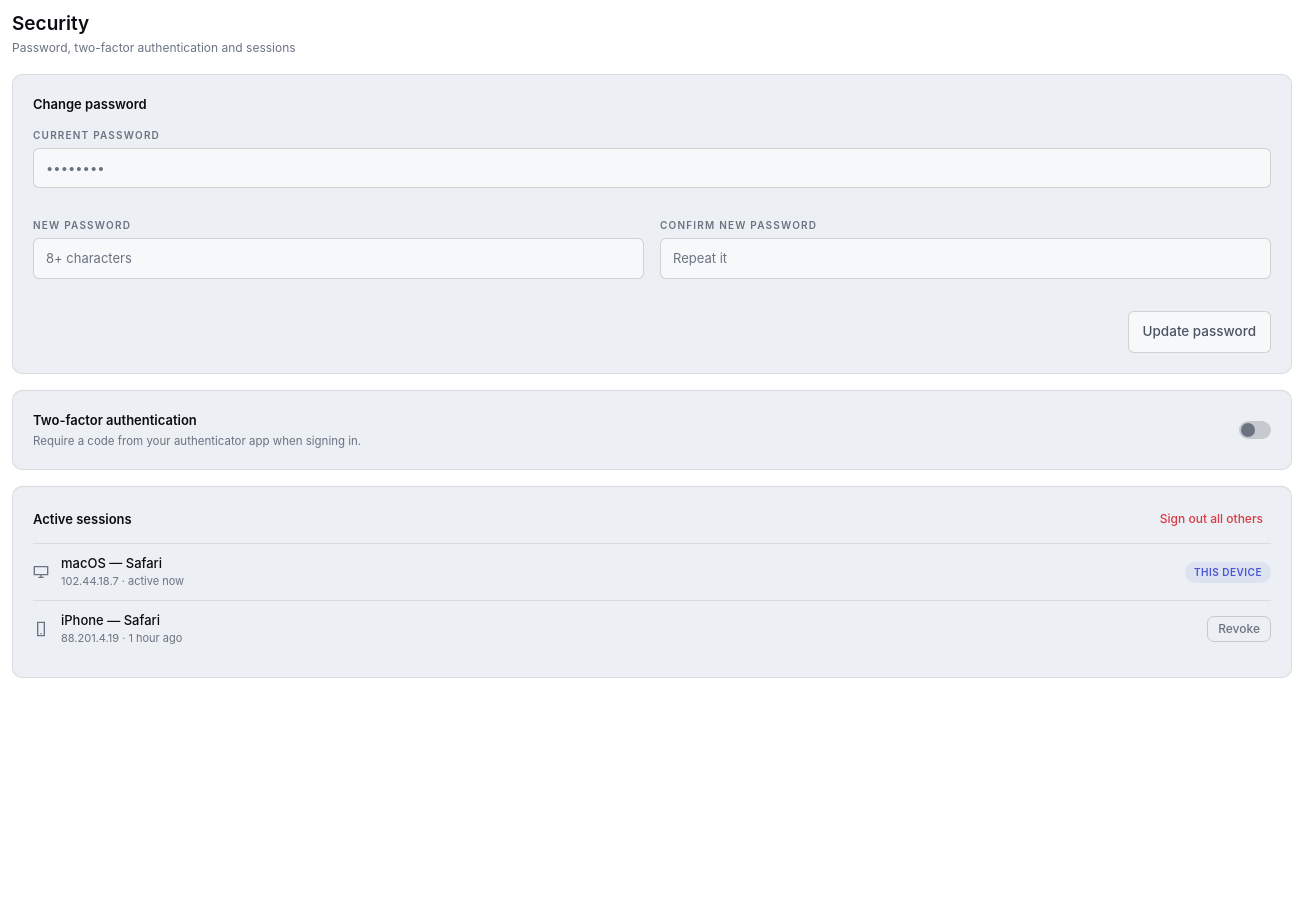
Test: SettingsSecurityPage › changes the password and refreshes the sessions the change just revoked
Step 1. Type "oldpassword1" into the password field labelled "Current password" → (652, 168), box [33, 148, 1271, 188]
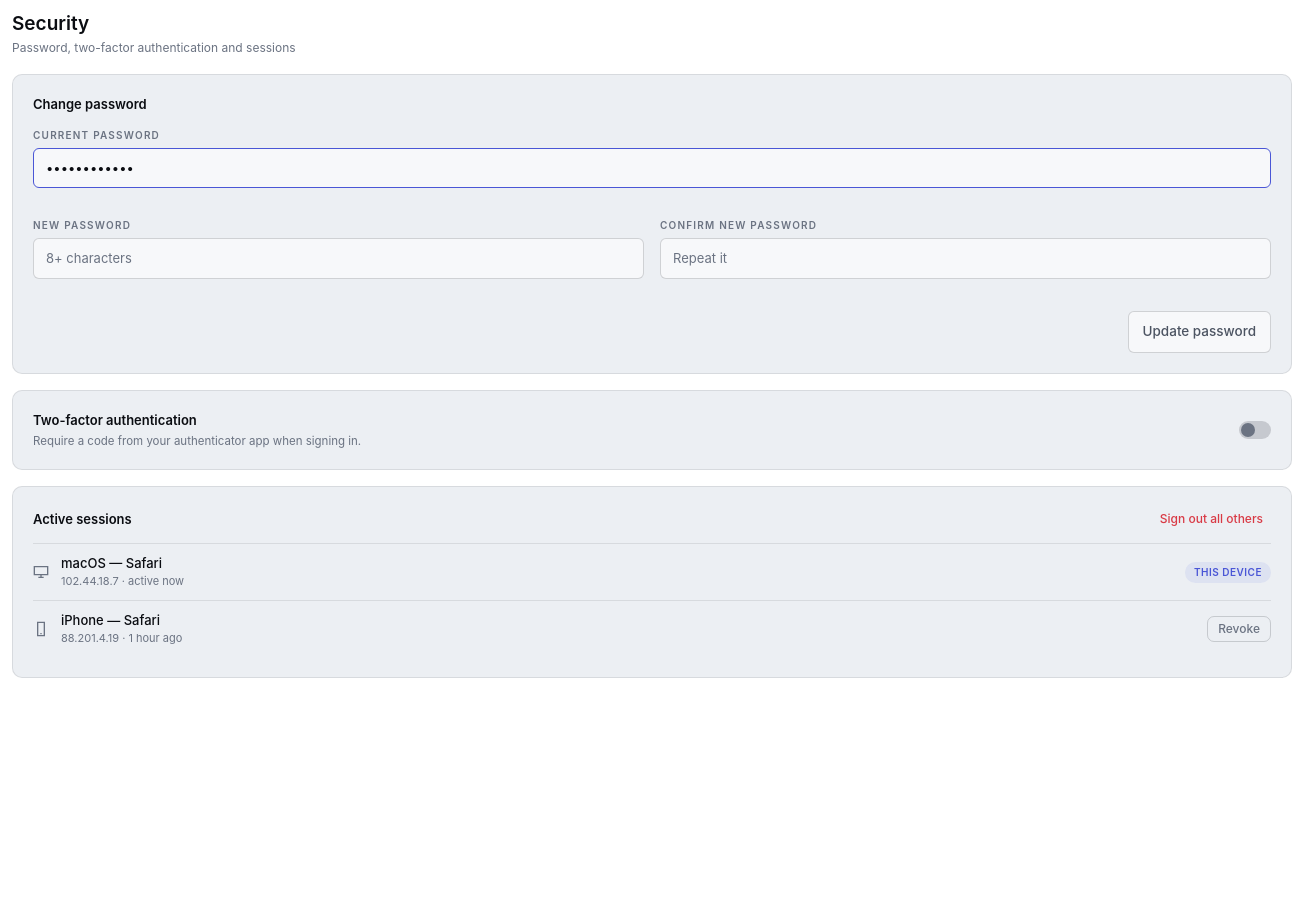
Step 2. Type "brandnew42" into the password field labelled "New password" → (338, 259), box [33, 238, 644, 279]
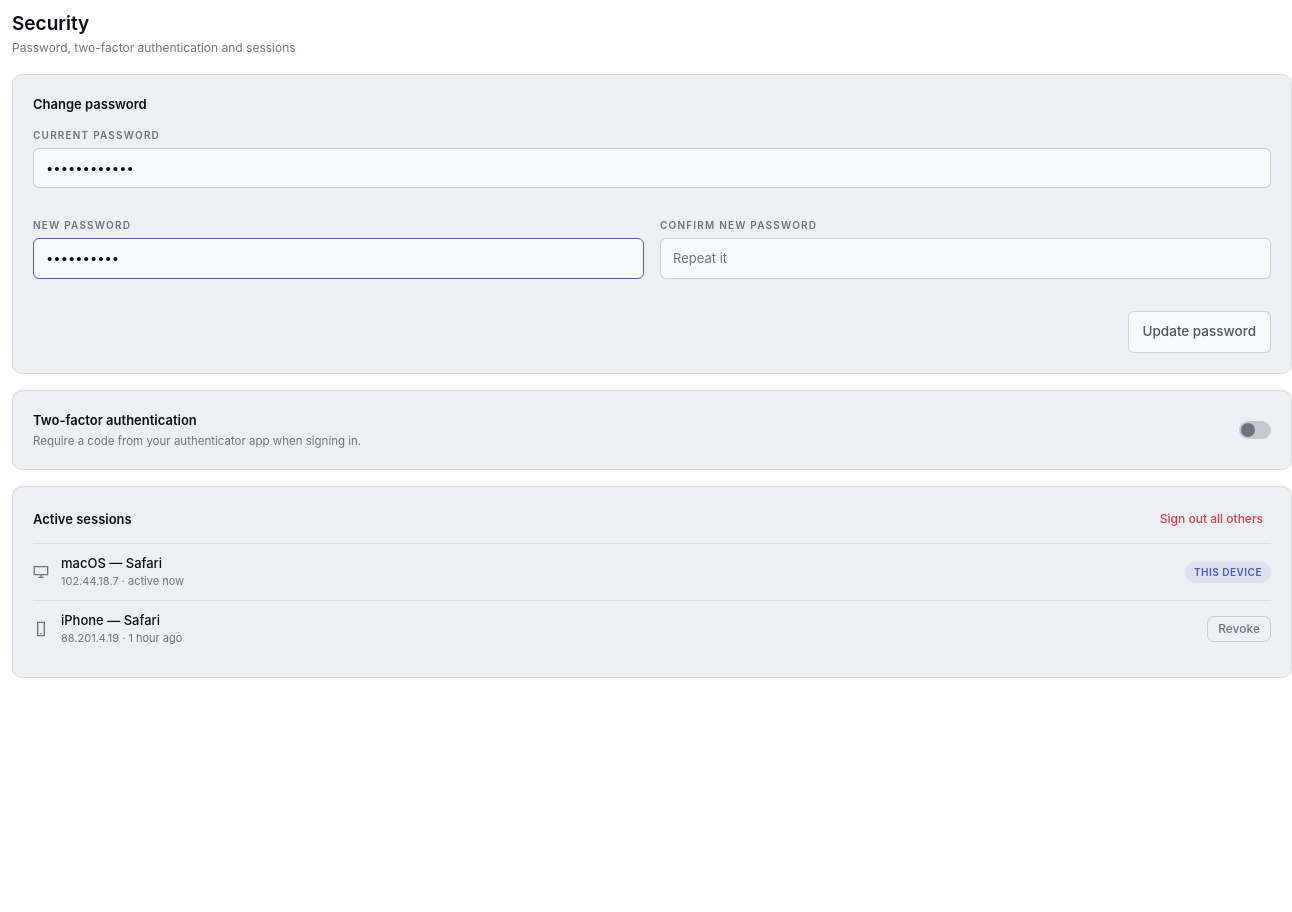
Step 3. Type "brandnew42" into the password field labelled "Confirm new password" → (966, 259), box [660, 238, 1271, 279]
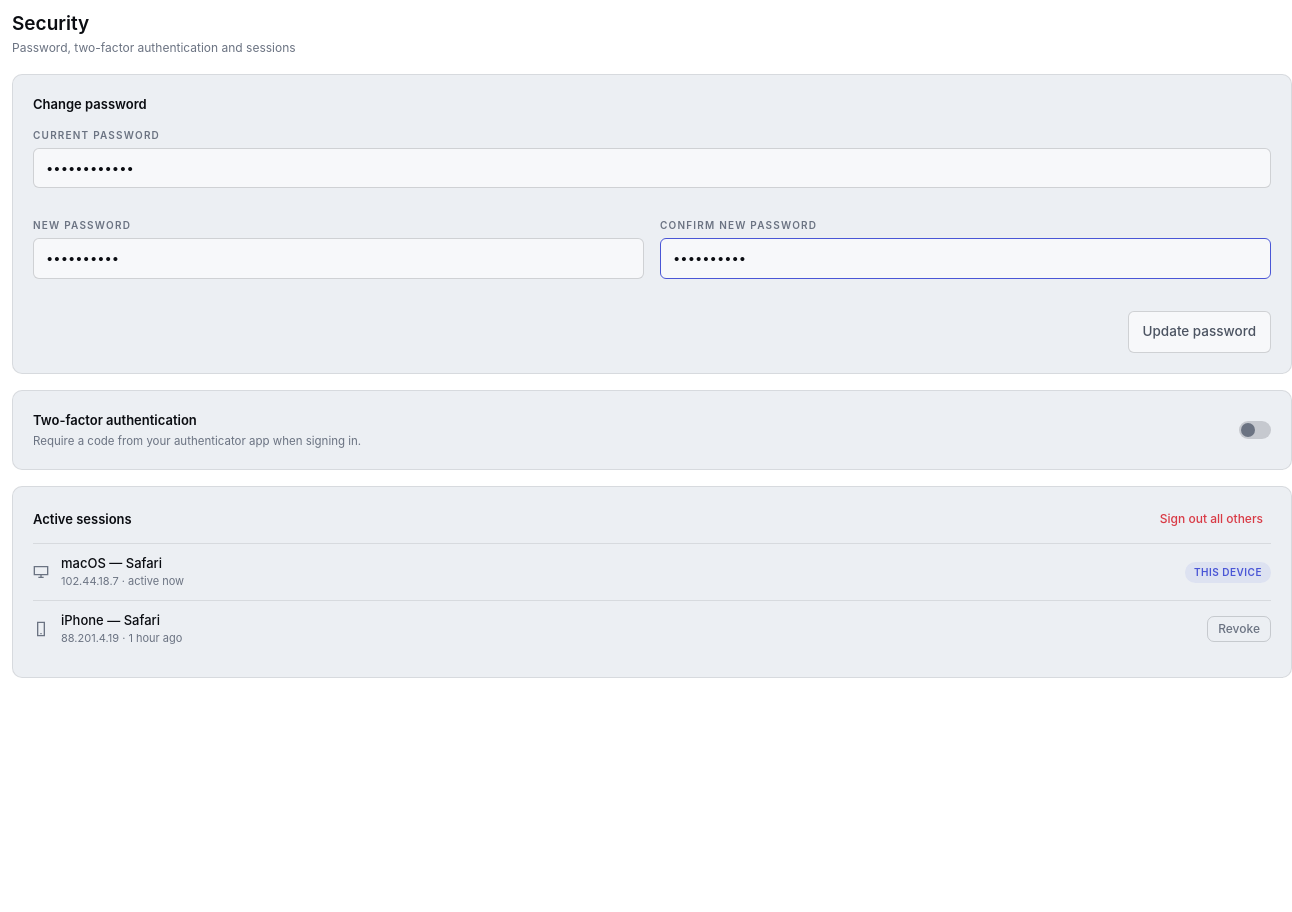
Step 4. Click the button "Update password" → (1199, 332), box [1128, 311, 1271, 353]
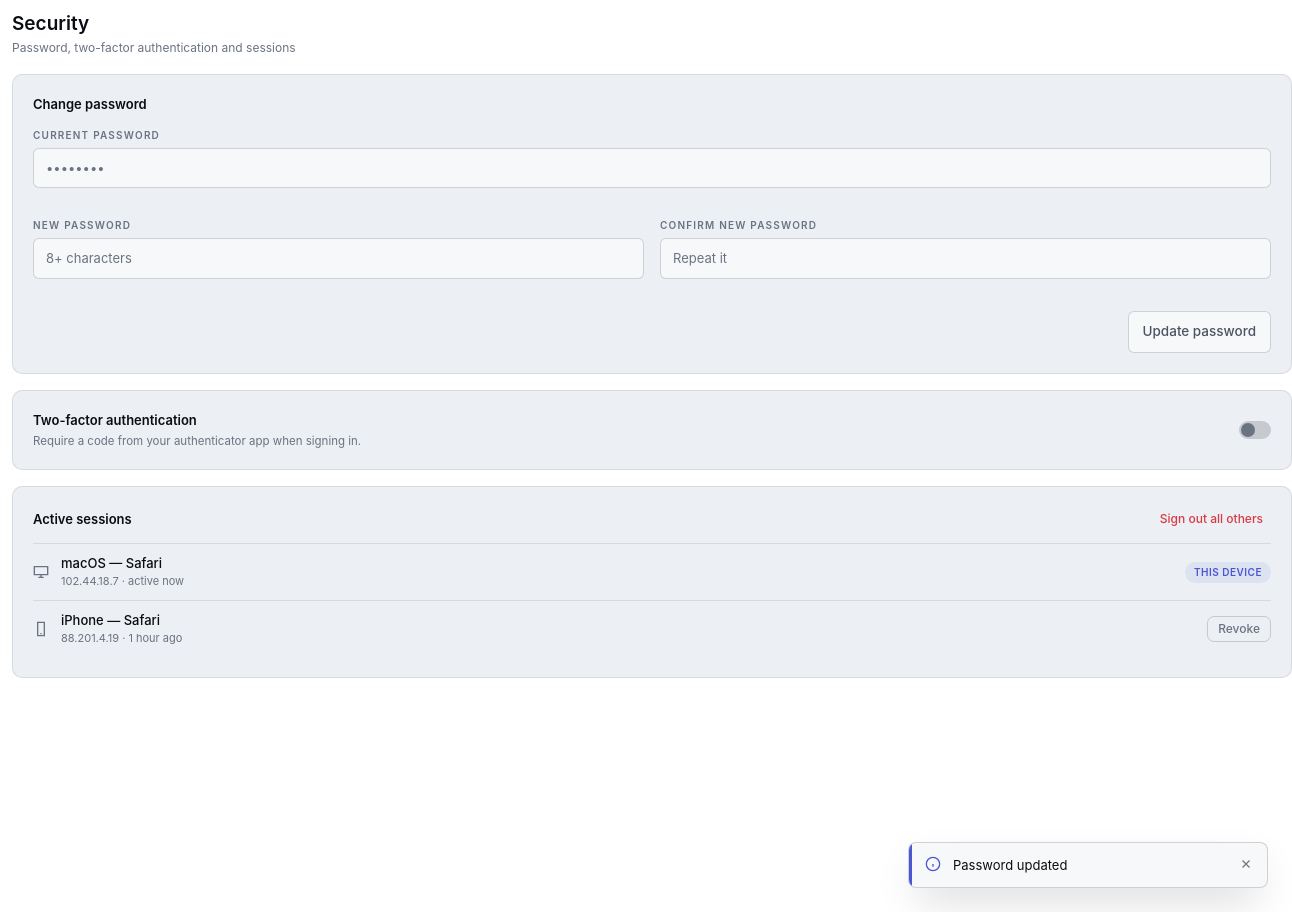
Check: the text "Password updated" is shown, box [953, 857, 1067, 873]
